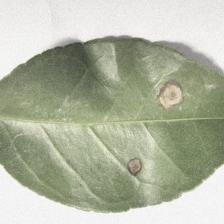canker: (115, 74, 191, 177)
